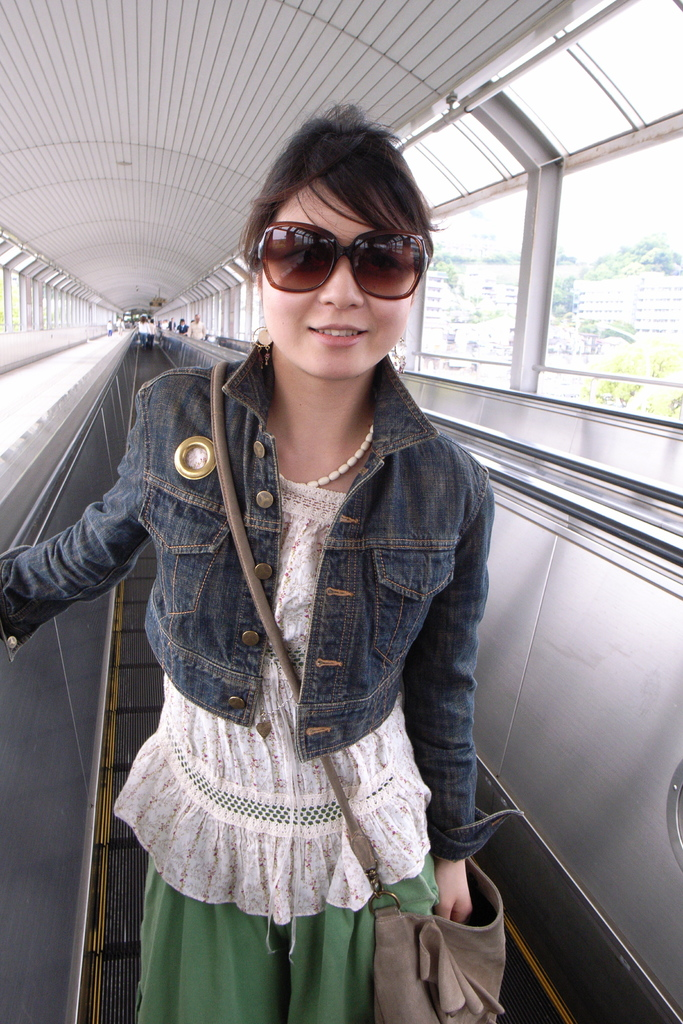Person: (100, 312, 209, 353)
